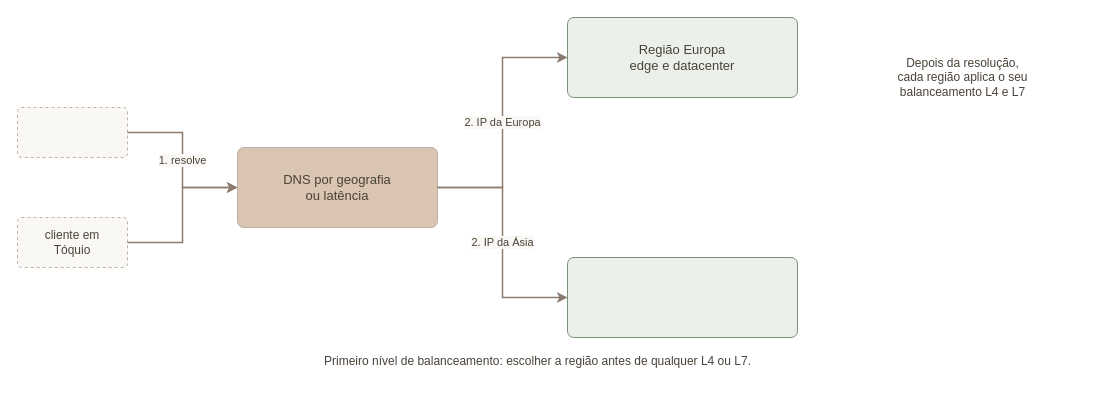
The diagram is 1105 pixels wide and 393 high, and some of its shapes have lost their labels. Here are the shapes that lost their labels. From the top down, the centre of each, then its label:
At point 72,132: "cliente em Lisboa".
At point 682,297: "Região Ásia edge e datacenter".
